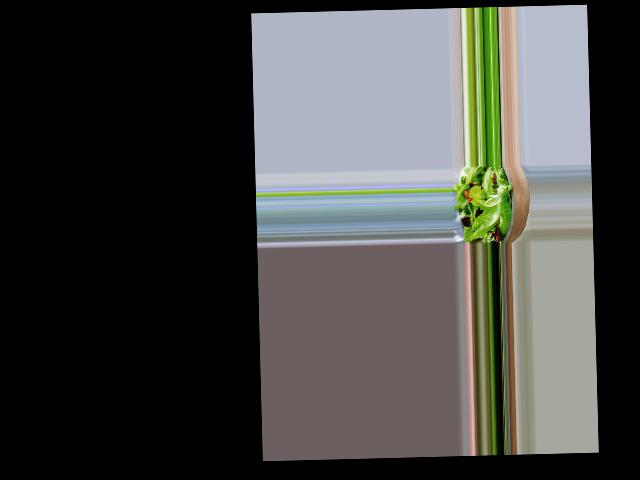lettuce: (456, 169, 512, 236)
